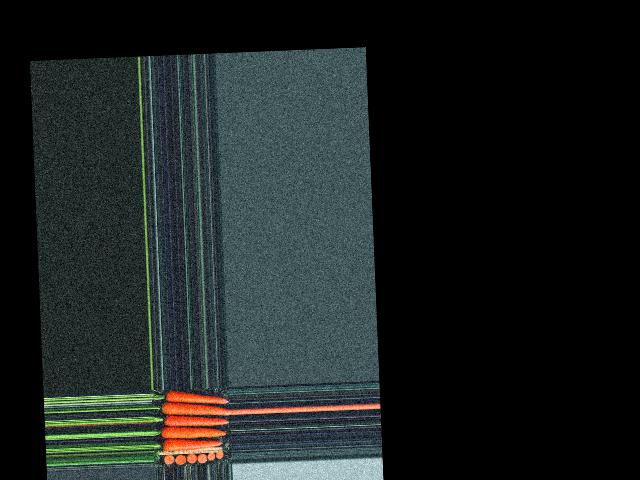carrot: (157, 437, 225, 454)
